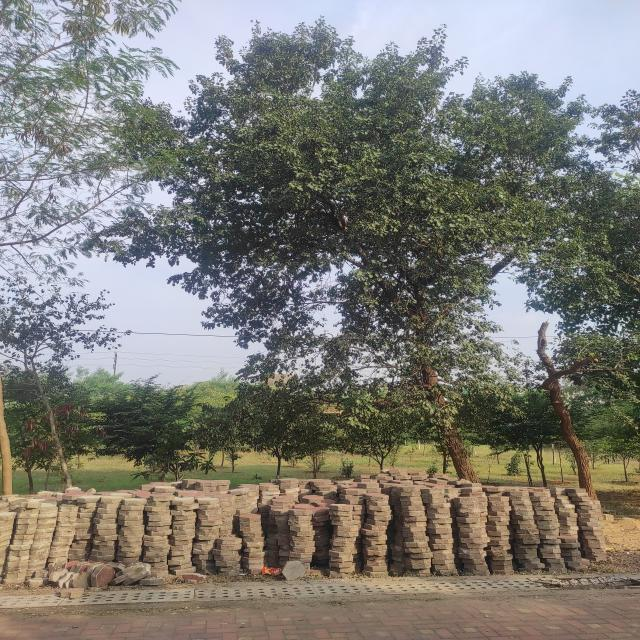Devakanchan tree: (166, 34, 615, 412)
